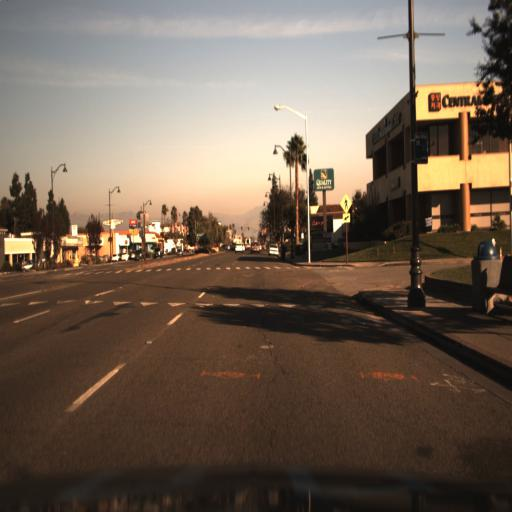car: (135, 249, 146, 261), (269, 244, 279, 257), (250, 242, 260, 254), (153, 247, 163, 259), (235, 243, 243, 253), (177, 249, 183, 256)
